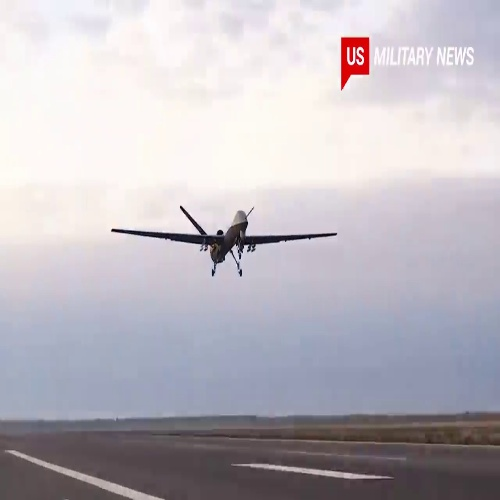uav: (109, 201, 338, 277)
